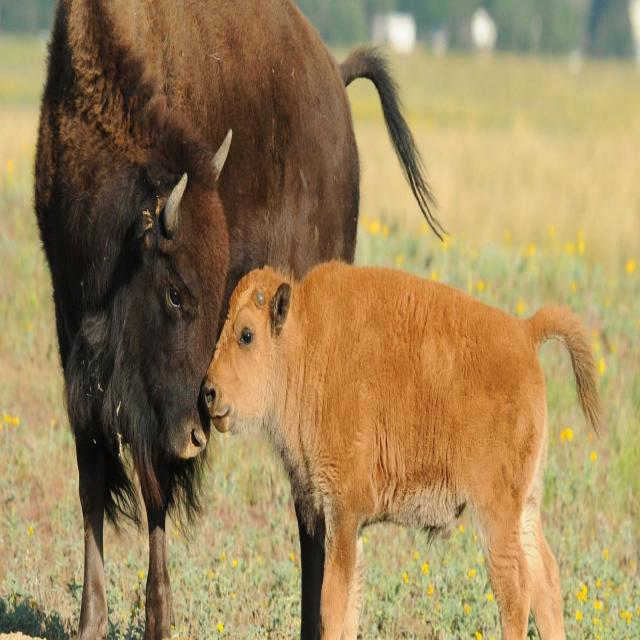Bison: (24, 0, 448, 640), (203, 254, 610, 640)
